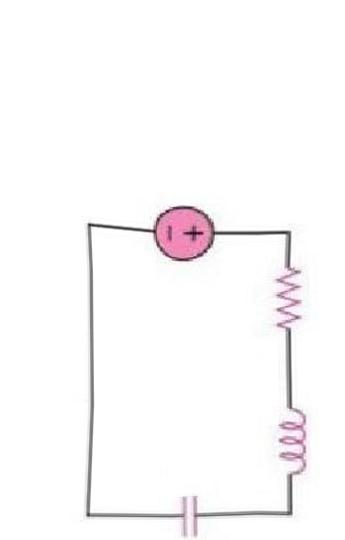Battery: (132, 190, 228, 273)
